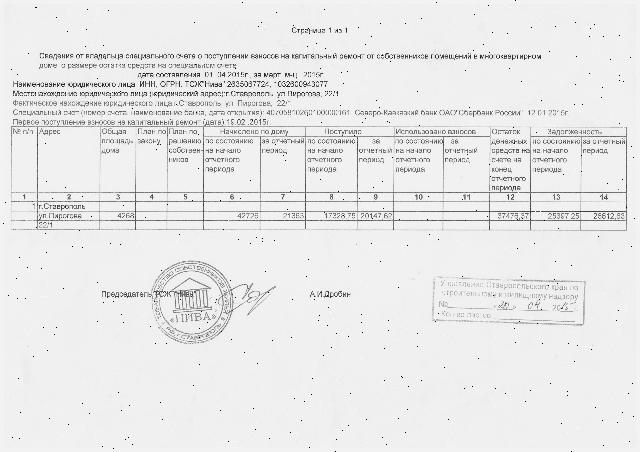stamp: (150, 261, 232, 345)
